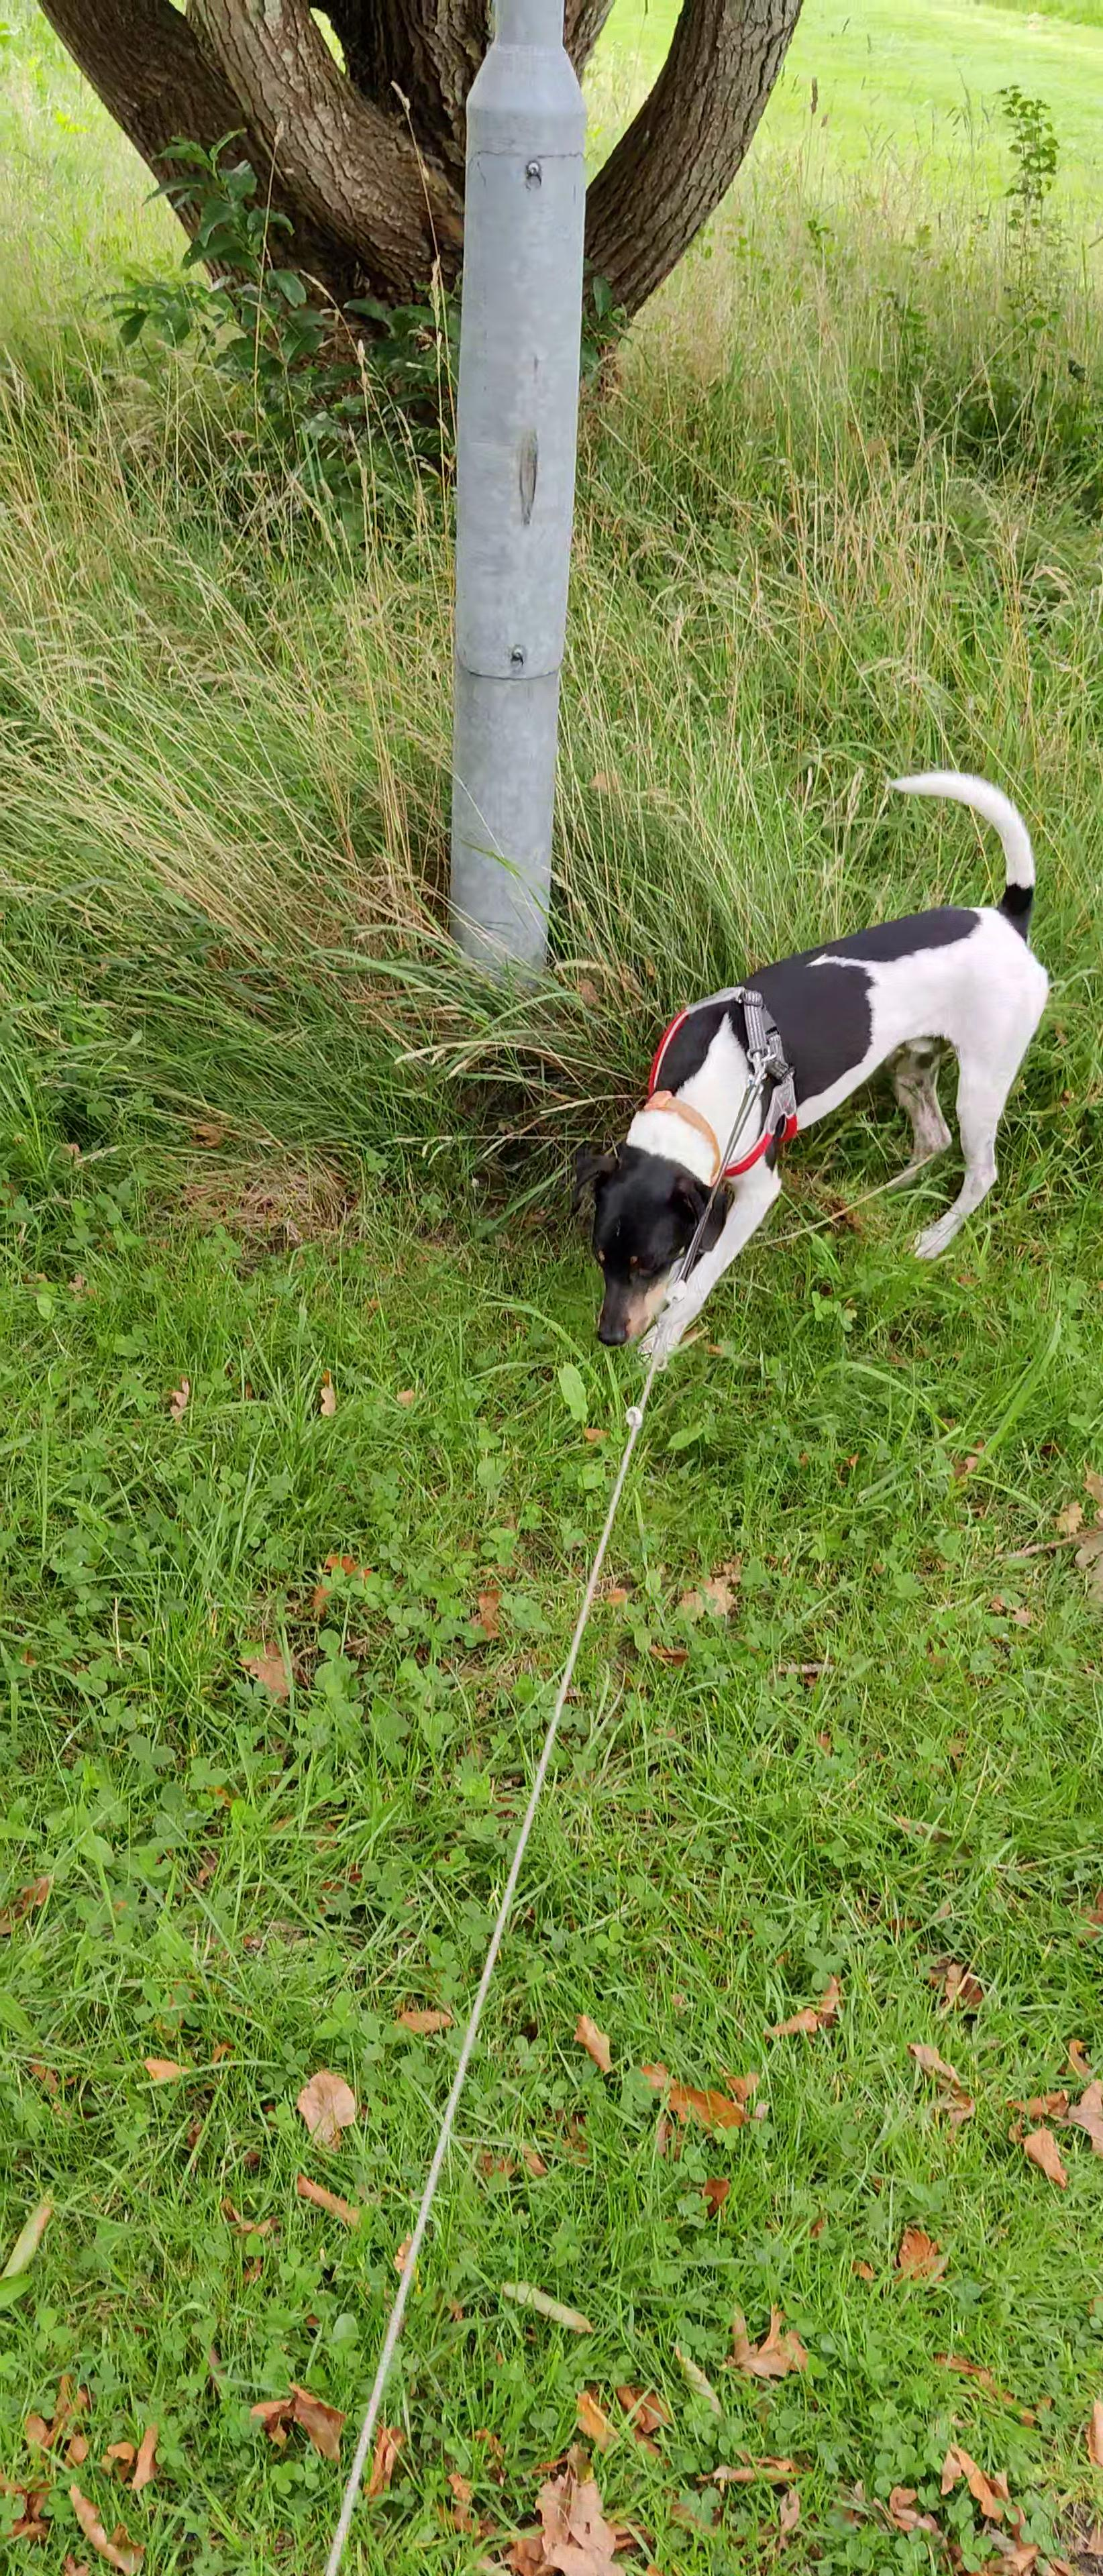Dog: (559, 759, 1059, 1375)
